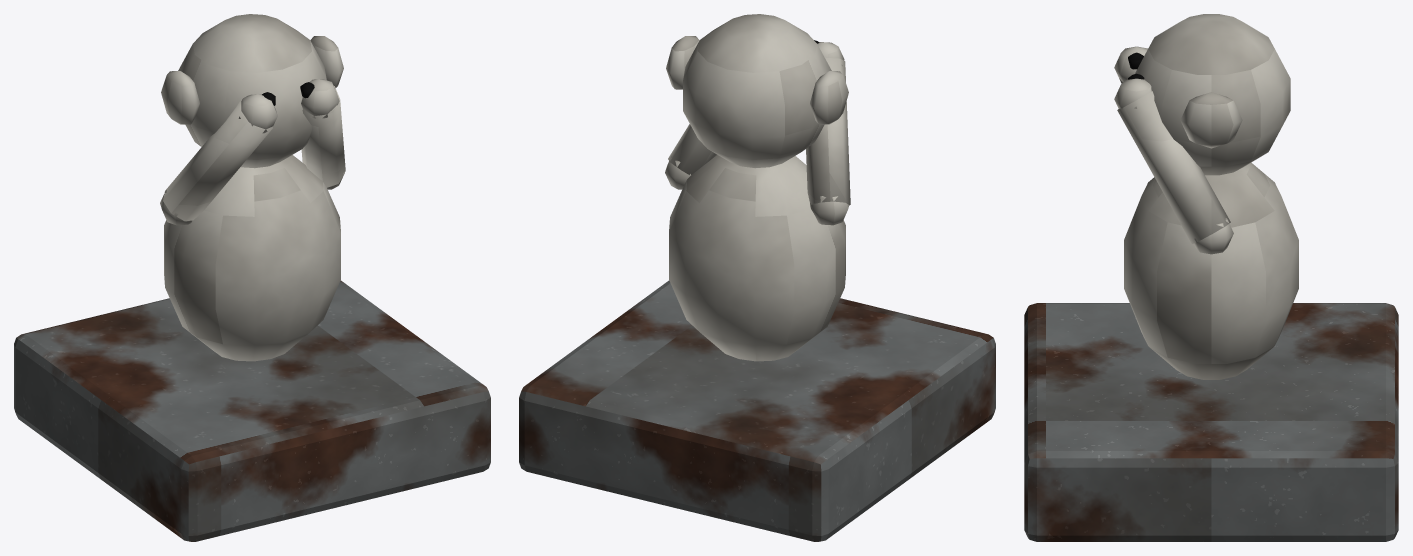
File: P03_animal_statue_v3_monkey.glb
The picture shows the model from 3 angles, left to right: view 1: azimuth 30°, elevation 25°; view 2: azimuth 150°, elevation 25°; view 3: azimuth 270°, elevation 25°; orthographic projection. The views are drawn at different scales.
Parts seen in each view (by area): view 1: P03_animal_statue_v3_monkey; view 2: P03_animal_statue_v3_monkey; view 3: P03_animal_statue_v3_monkey.
Part boxes in pixels (bbox=[...]): P03_animal_statue_v3_monkey: bbox=[14, 14, 490, 541]; P03_animal_statue_v3_monkey: bbox=[519, 14, 995, 541]; P03_animal_statue_v3_monkey: bbox=[1024, 14, 1398, 541].
Size of the model in its own units: 0.4557 by 0.6 by 0.4557.
Materials: 3 (3 with a texture image).
